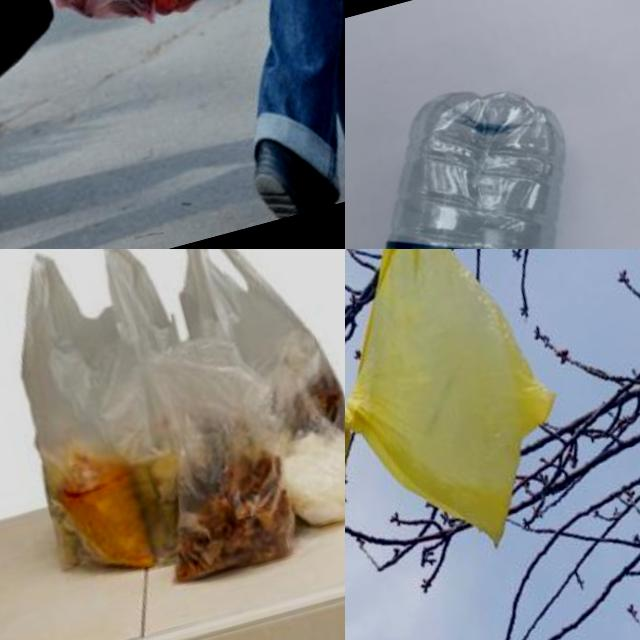garrafa plástica: (345, 64, 640, 249)
sacola plástica: (0, 249, 227, 612), (345, 249, 591, 579), (126, 333, 322, 620), (122, 249, 345, 491), (32, 412, 175, 640), (0, 0, 263, 75), (263, 357, 345, 578)
